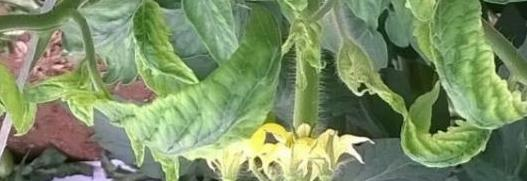Tomato leaf yellow virus: (123, 8, 285, 158), (420, 0, 521, 133)
